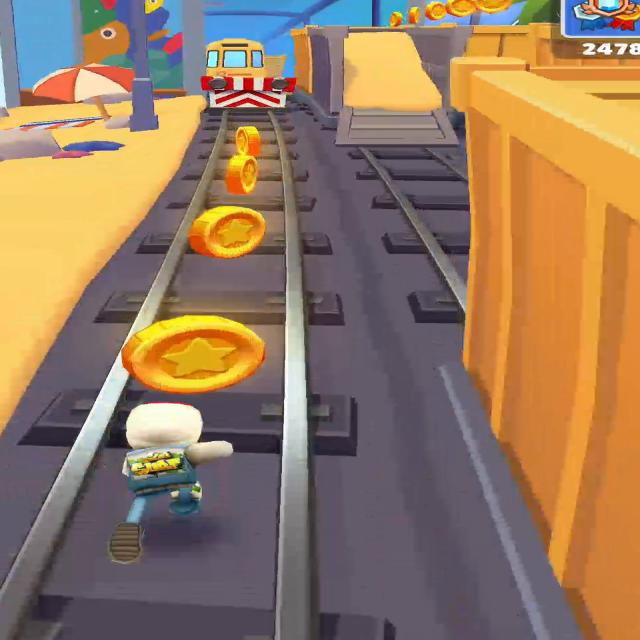blocker: (337, 32, 449, 146)
roll blocker: (201, 75, 294, 109)
train: (453, 58, 639, 640), (465, 23, 639, 68), (292, 26, 347, 126), (205, 39, 283, 78)
